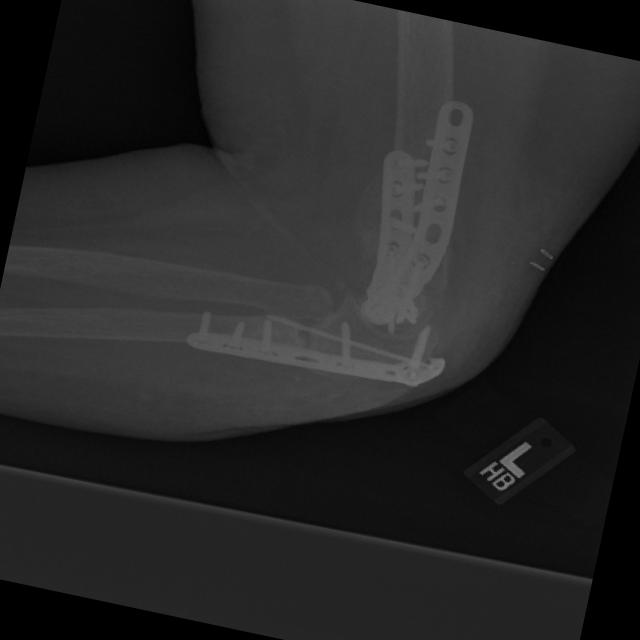elbow positive: (277, 314, 336, 355)
